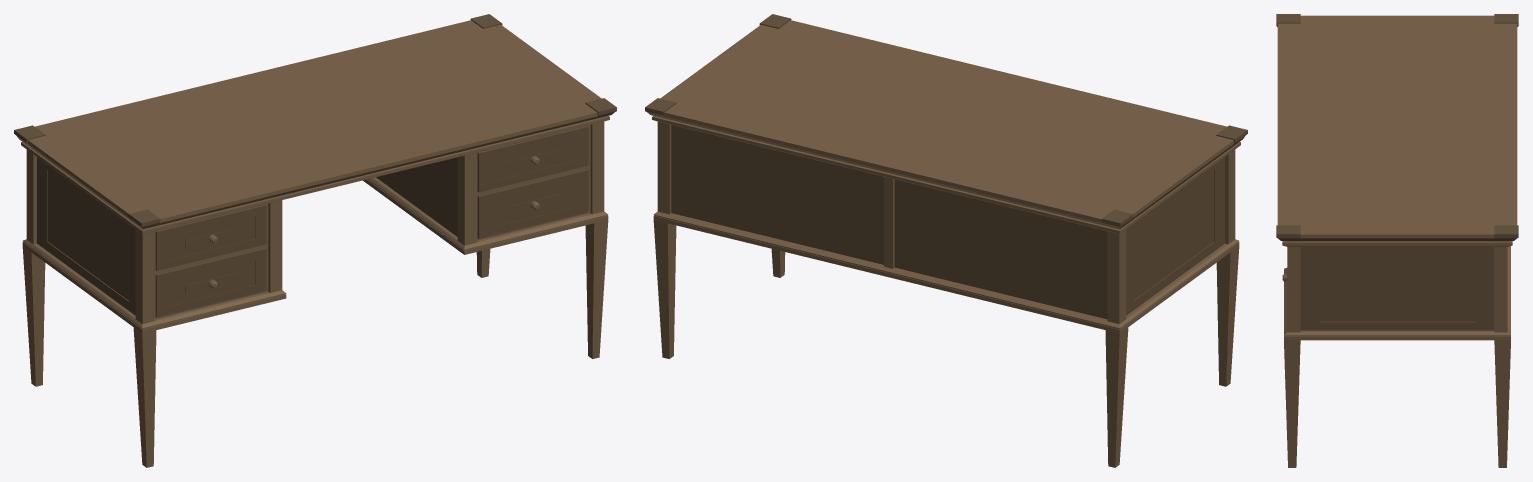
3 views of the same model, side by side, from view 1: azimuth 30°, elevation 25°; view 2: azimuth 150°, elevation 25°; view 3: azimuth 270°, elevation 25° (orthographic). The views are drawn at different scales.
Parts seen in each view (by area): view 1: Desk_Cube.004, Desk_Drawer4_Cube.006, Desk_Drawer2_Cube.005, Desk_Drawer3_Cube.007, Desk_Drawer1_Cube.002; view 2: Desk_Cube.004; view 3: Desk_Cube.004.
Part boxes in pixels (x1,y1,x2,y2): Desk_Cube.004: (14,14,616,467); Desk_Drawer4_Cube.006: (155,248,266,317); Desk_Drawer2_Cube.005: (477,169,588,238); Desk_Drawer3_Cube.007: (155,204,266,270); Desk_Drawer1_Cube.002: (477,126,588,192); Desk_Cube.004: (645,14,1247,467); Desk_Cube.004: (1276,14,1518,467).
Size of the model in its own units: 1.82 by 0.9225 by 0.8466.
